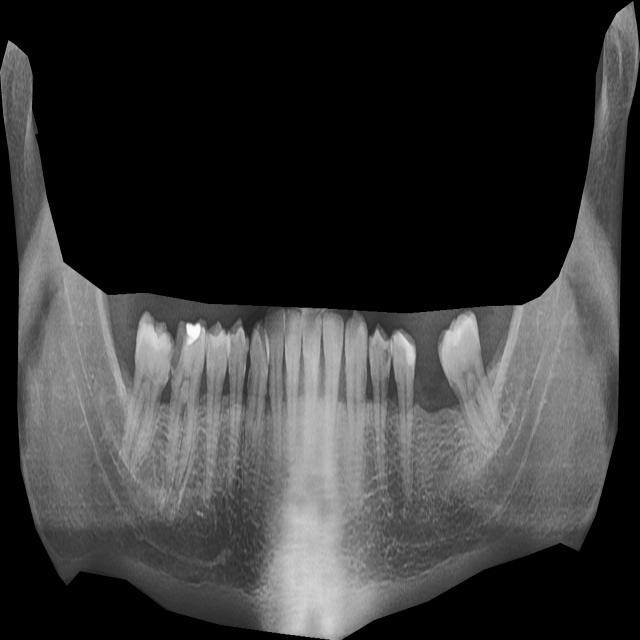mandibula: (0, 1, 640, 640)
